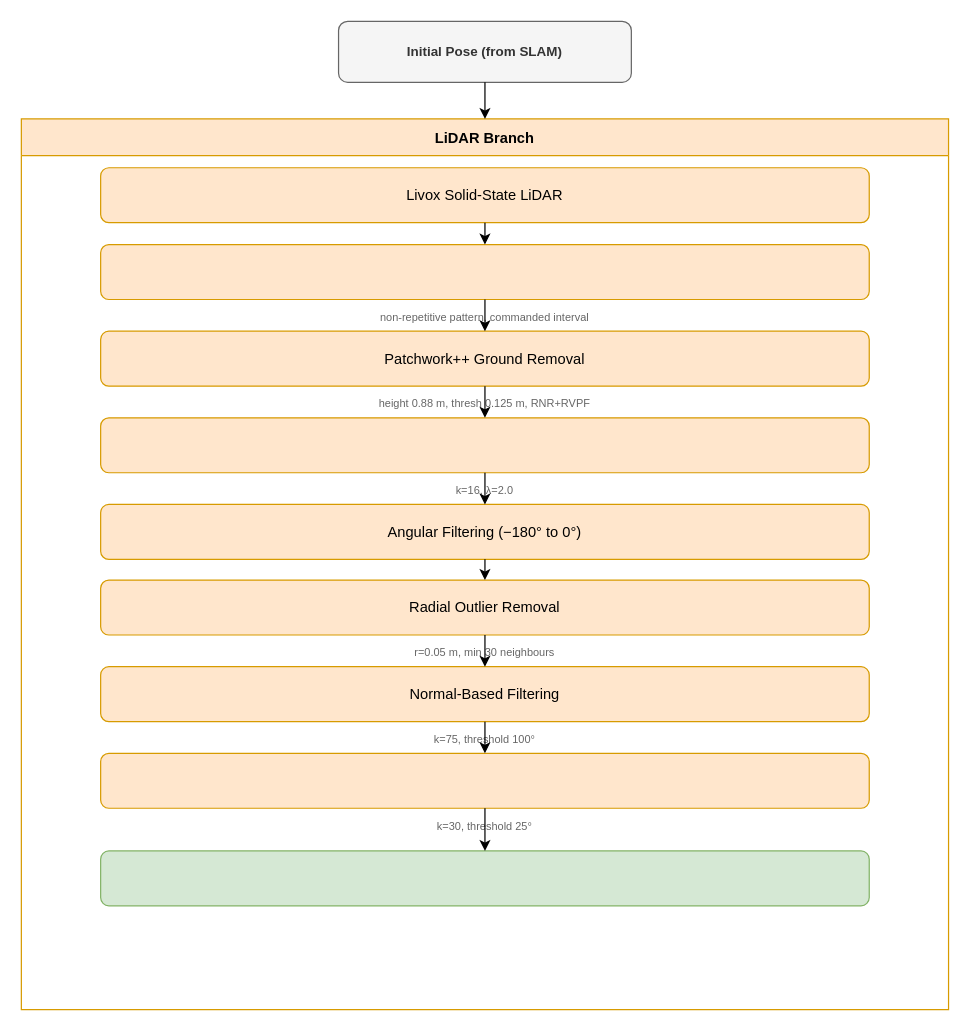
The diagram is 970 pixels wide and 1031 high, and some of its shapes have lost their labels. The shapes that lost their labels are listed below. From the top down, each one's centre as x and y in pixels, then its label:
At (484,271): "Dense Scan Accumulation".
At (484,445): "Statistical Outlier Removal".
At (484,780): "Normal-Based Smoothing".
At (484,878): "Filtered Source Cloud (LiDAR)".
